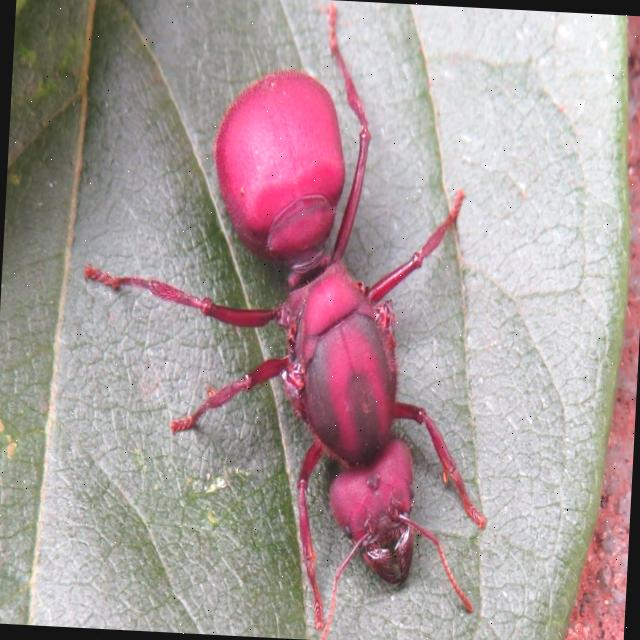Alive-Female-Dealate: (65, 0, 515, 640)
